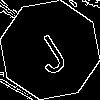J: (25, 25, 71, 77)
